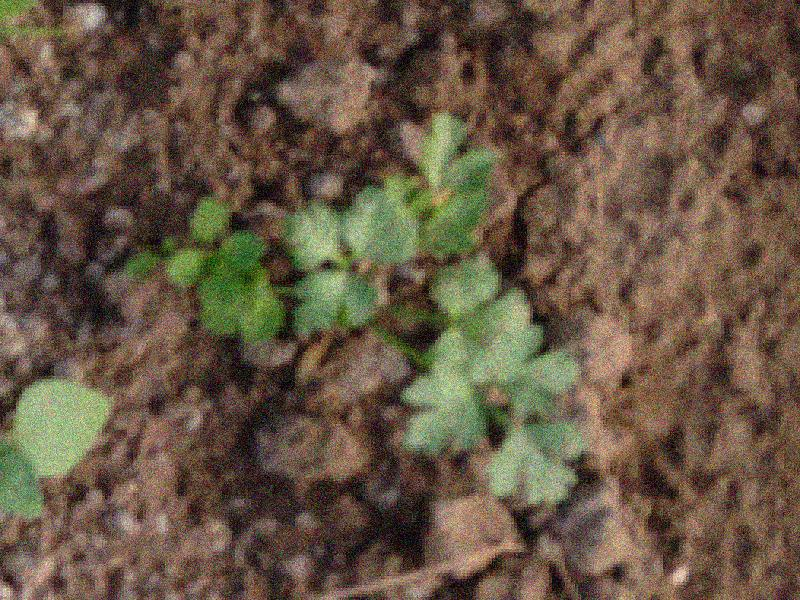radish: (70, 10, 697, 595)
